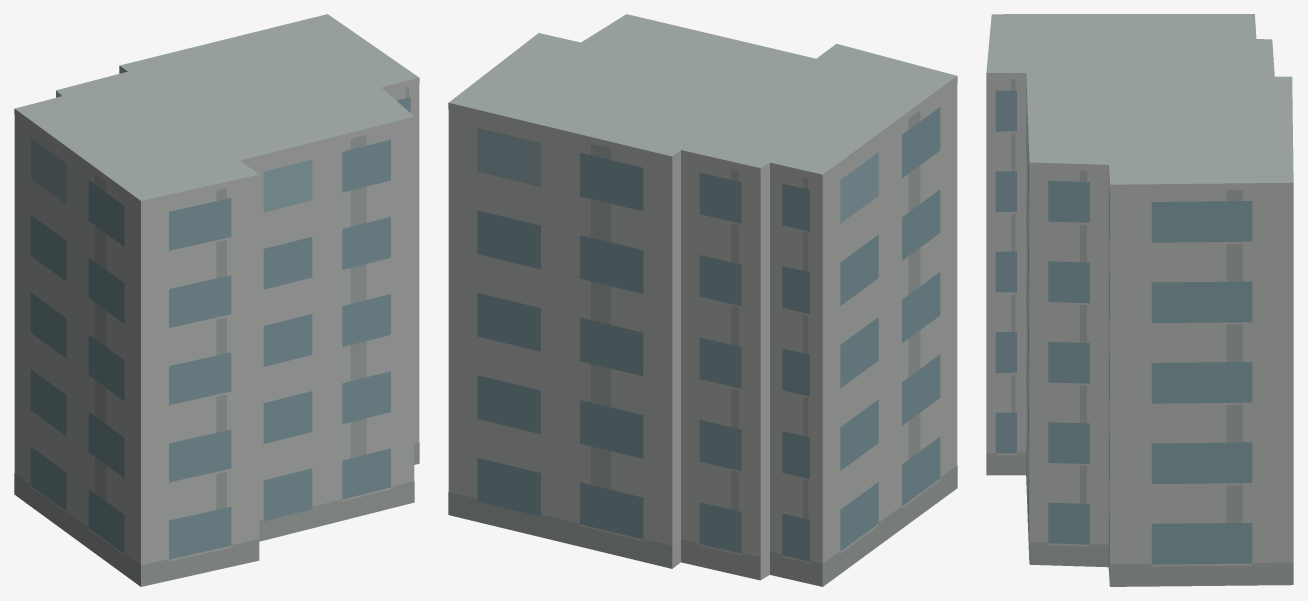
The model's file is survey-upis-32793724.glb.
3 renders of one model, left to right at view 1: azimuth 30°, elevation 25°; view 2: azimuth 150°, elevation 25°; view 3: azimuth 270°, elevation 25°, orthographic. The views are drawn at different scales.
Visible parts, largest first — view 1: survey-upis-32793724.tmp; view 2: survey-upis-32793724.tmp; view 3: survey-upis-32793724.tmp.
Part boxes in pixels (<box>): survey-upis-32793724.tmp: <box>14,14,419,586</box>; survey-upis-32793724.tmp: <box>448,14,957,586</box>; survey-upis-32793724.tmp: <box>986,14,1293,586</box>.
Bounding box in the file's own units: 13.3 × 14.6 × 10.12.
